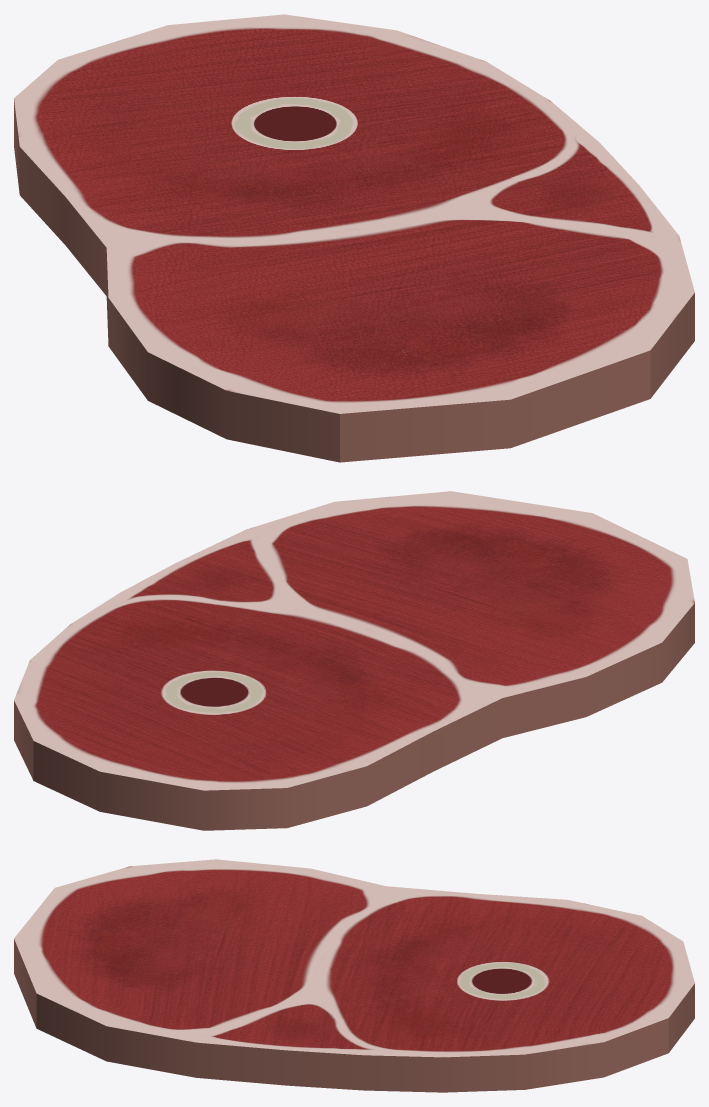
File: steak.glb
The picture shows the model from 3 angles, top to bottom: view 1: azimuth 30°, elevation 25°; view 2: azimuth 150°, elevation 25°; view 3: azimuth 270°, elevation 25°; orthographic projection. The views are drawn at different scales.
Visible parts, largest first — view 1: steak_low; view 2: steak_low; view 3: steak_low.
Part boxes in pixels (x1=…): steak_low: x1=14, y1=14, x2=694, y2=462; steak_low: x1=14, y1=491, x2=694, y2=830; steak_low: x1=14, y1=859, x2=694, y2=1092.
Size of the model in its own units: 2.41 by 0.2 by 3.5.
2 materials, 2 textured.
